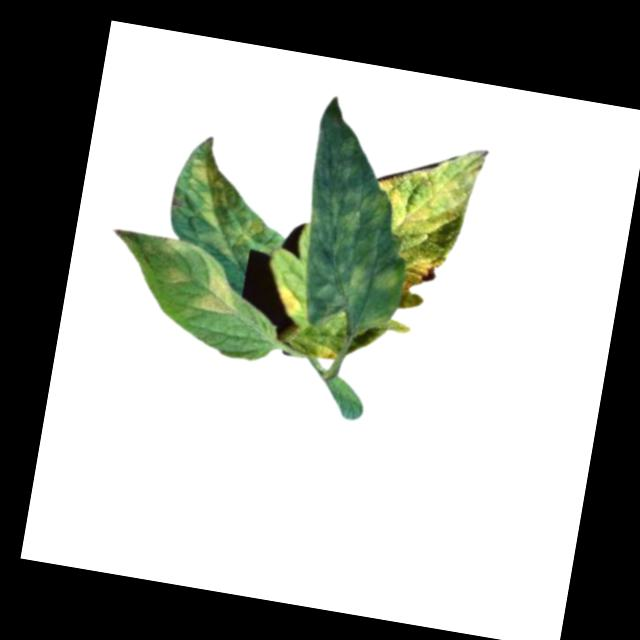Leaf_Mold: (293, 110, 418, 336), (368, 128, 493, 258), (179, 152, 276, 260), (401, 248, 447, 302), (194, 269, 242, 317), (271, 280, 307, 319), (162, 263, 195, 287), (313, 338, 342, 361)
